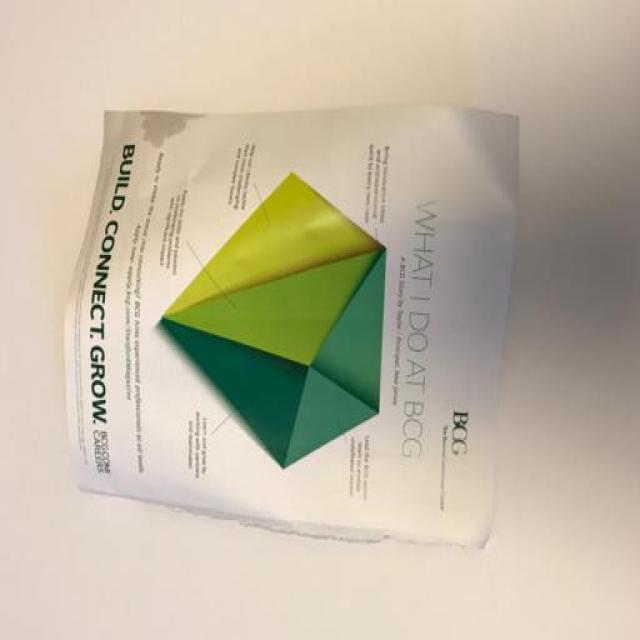paper: (31, 61, 547, 569)
